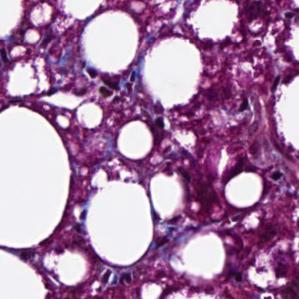inflammation: (80, 65, 125, 104), (96, 266, 135, 290), (267, 166, 287, 185)
